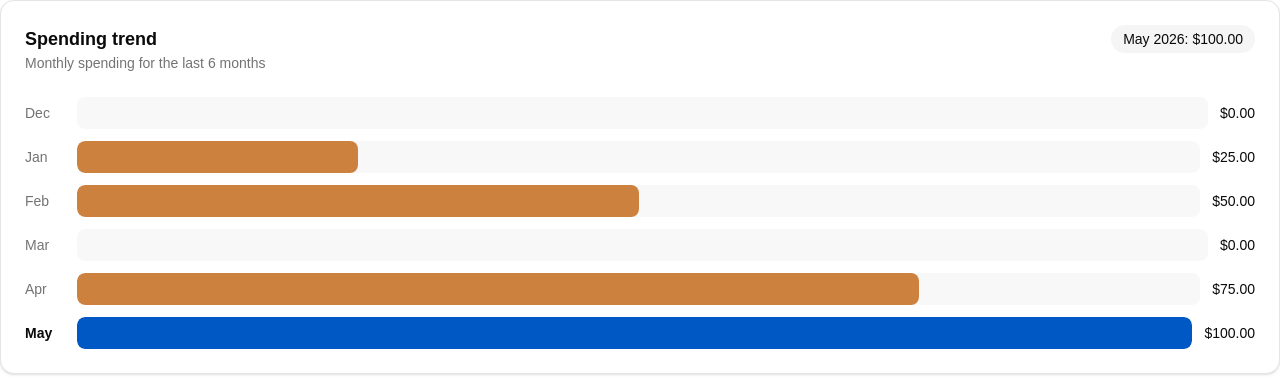
Test: SpendingTrendChart › selects a month on click
Click the list item with aria-label "April 2026 spending $75.00": (640, 289) [25, 273, 1255, 305]
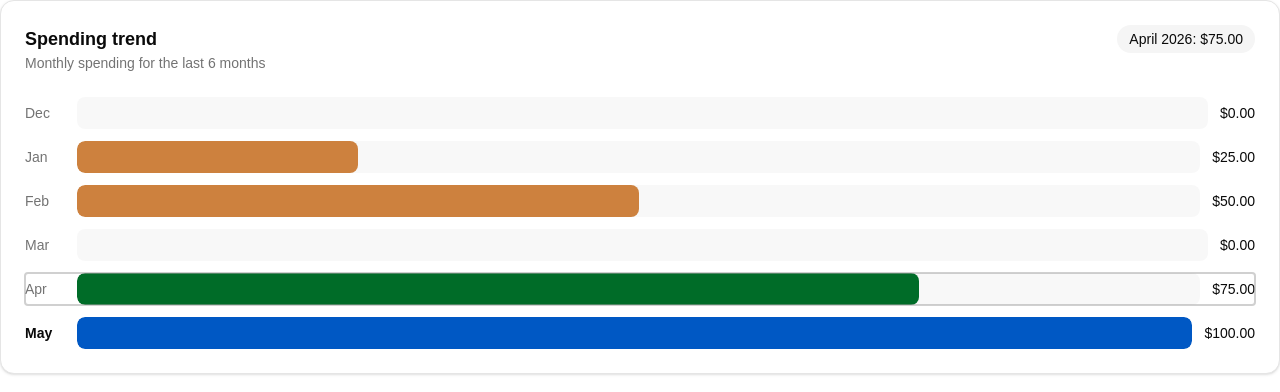
Check: the text "April 2026: $75.00" is shown, box [1117, 25, 1255, 53]
